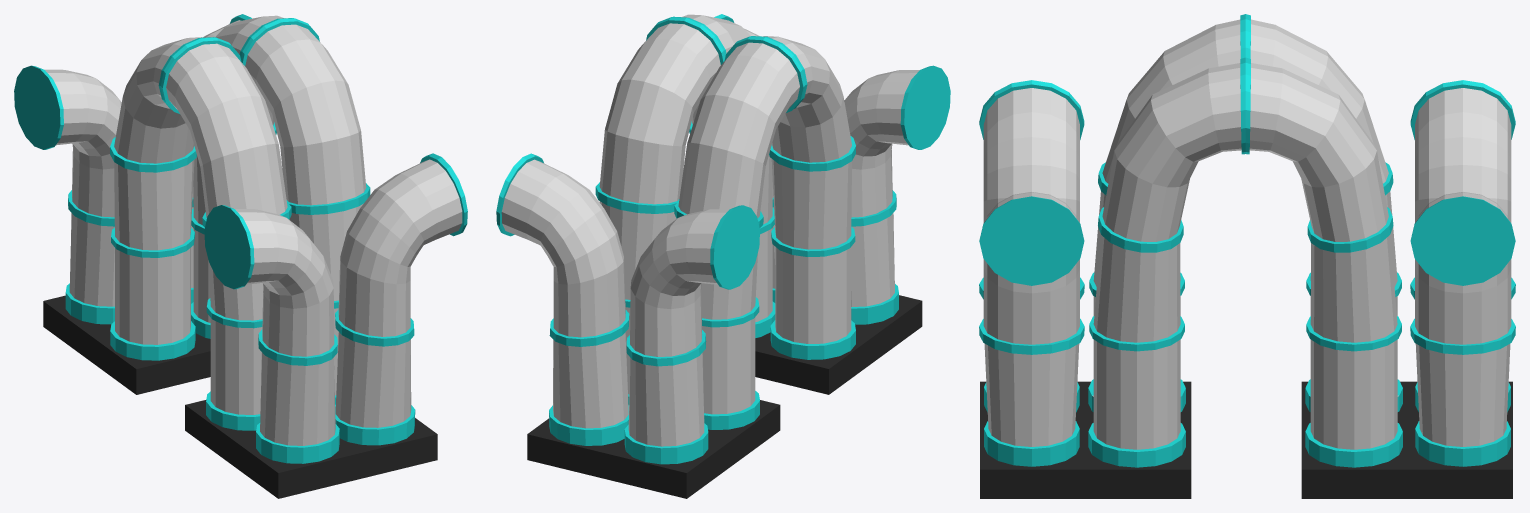
File: Factory_CorridorNarrowPipes.fbx
3 renders of one model, left to right at view 1: azimuth 30°, elevation 25°; view 2: azimuth 150°, elevation 25°; view 3: azimuth 270°, elevation 25°, orthographic. The views are drawn at different scales.
Visible parts, largest first — view 1: Cylinder.006; view 2: Cylinder.006; view 3: Cylinder.006.
Boxes of the visible parts, x1,y1,x2,y2 form: Cylinder.006: (14,14,467,498); Cylinder.006: (496,14,950,498); Cylinder.006: (979,14,1515,498).
Bounding box in the file's own units: 210 × 329 × 387.
